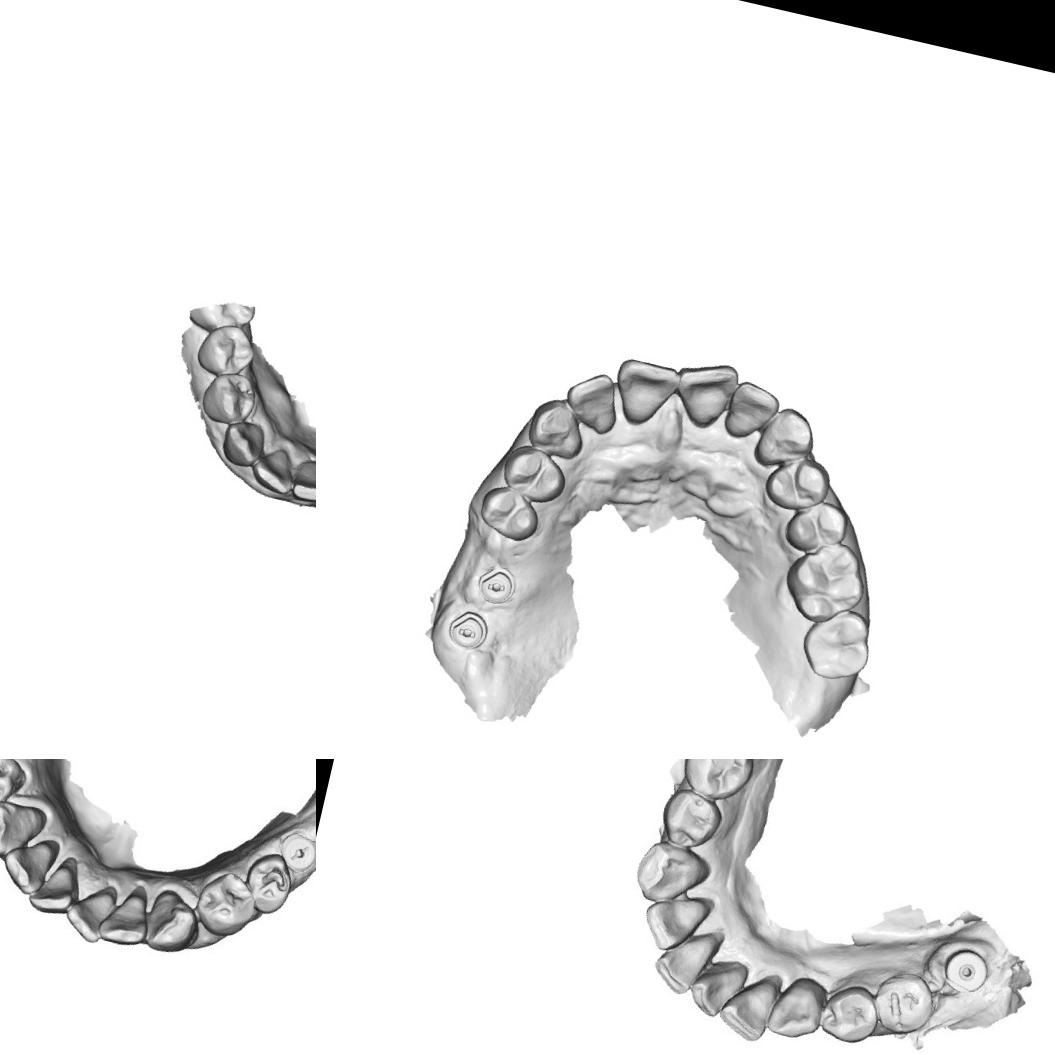canine: (634, 842, 716, 910), (756, 402, 821, 477), (522, 394, 592, 463), (768, 974, 834, 1046), (146, 887, 209, 957), (0, 795, 53, 864), (218, 416, 270, 472)
implant: (940, 942, 993, 1000)
implant_minus: (472, 559, 520, 611), (443, 604, 492, 654), (275, 824, 316, 878)
incisor: (665, 353, 743, 438), (605, 354, 681, 432), (636, 884, 713, 960), (648, 920, 724, 996), (717, 966, 788, 1045), (559, 365, 626, 436), (720, 375, 784, 448), (98, 878, 160, 946), (682, 956, 746, 1019), (63, 872, 119, 943), (28, 850, 86, 916), (0, 831, 58, 895), (246, 441, 303, 498), (287, 455, 316, 507)
molar: (776, 534, 873, 633), (796, 602, 878, 687)
premolar: (496, 440, 574, 508), (759, 450, 835, 516), (864, 970, 936, 1038), (816, 980, 884, 1052), (780, 494, 853, 561), (656, 781, 726, 850), (473, 481, 546, 547), (192, 316, 262, 384), (195, 872, 267, 937), (196, 366, 262, 430), (244, 850, 300, 916), (680, 759, 758, 805), (0, 759, 32, 817)
